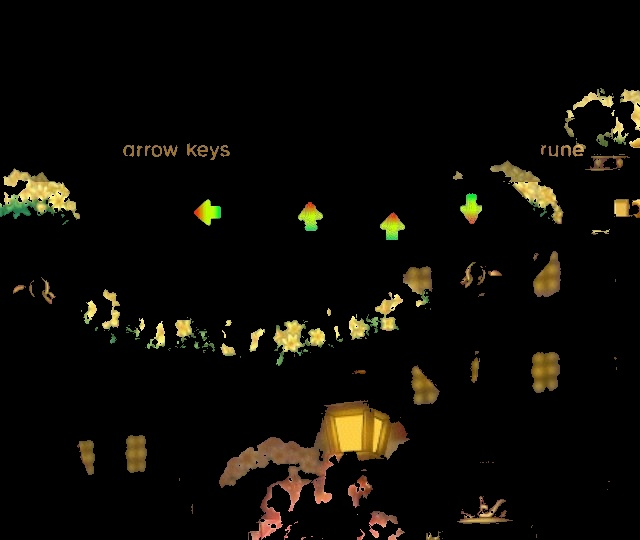down: (455, 190, 489, 229)
left: (187, 195, 229, 231)
up: (290, 198, 331, 239), (374, 208, 413, 245)
